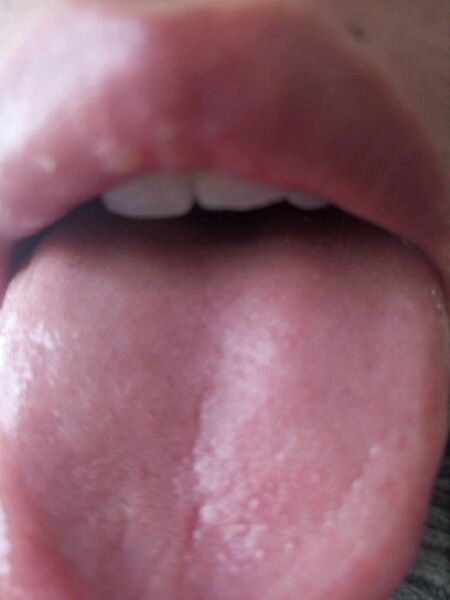baitaishe: (1, 214, 450, 600)
liewenshe: (182, 381, 202, 555)
